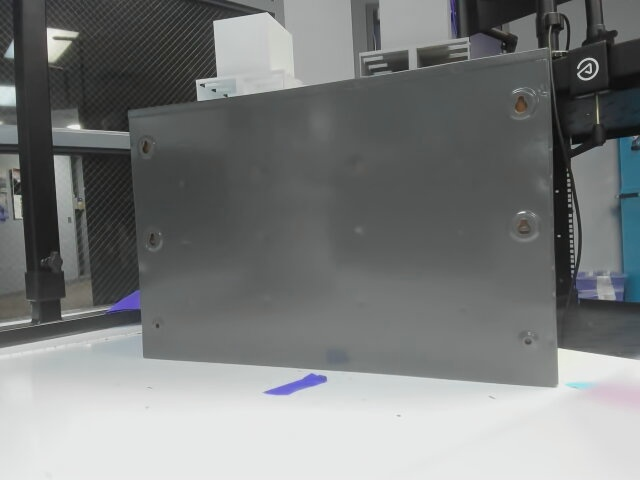grey pallet: (340, 0, 476, 76)
white pallet: (195, 11, 311, 101)
